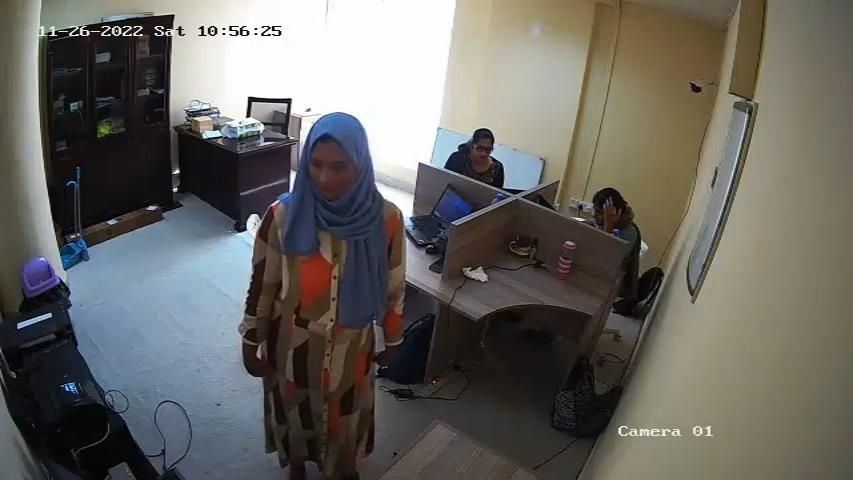no_apron: (278, 197, 375, 441)
